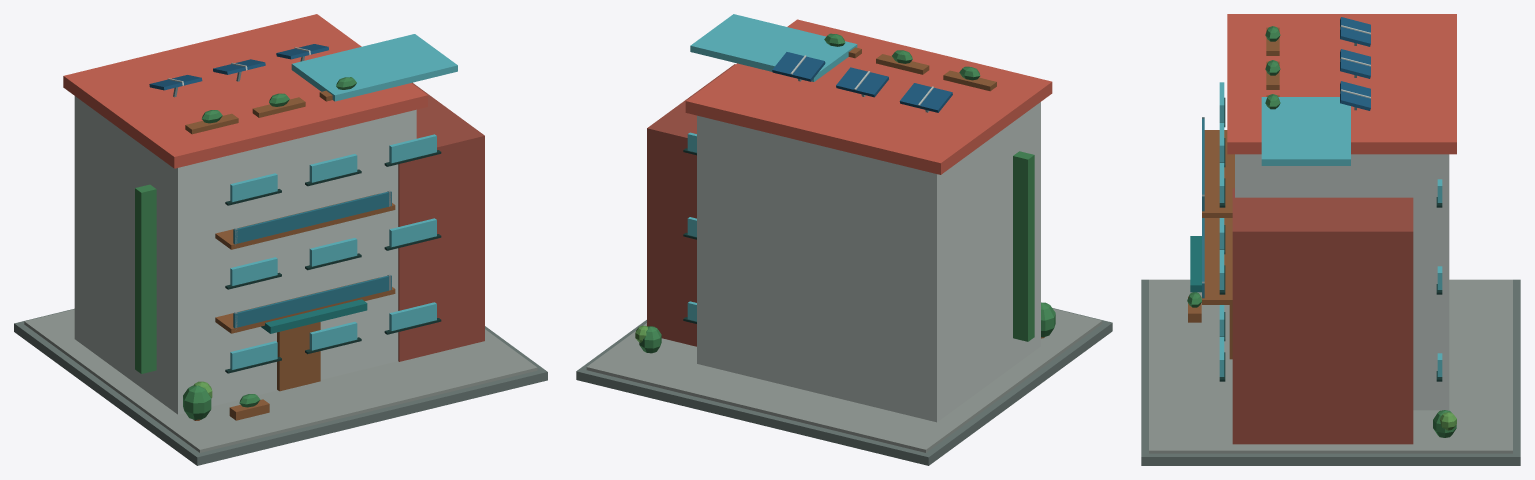
File: house_lv6.glb
The picture shows the model from 3 angles, left to right: view 1: azimuth 30°, elevation 25°; view 2: azimuth 150°, elevation 25°; view 3: azimuth 270°, elevation 25°; orthographic projection. The views are drawn at different scales.
Visible parts, largest first — view 1: rough, glossy, metallic; view 2: rough, glossy, metallic; view 3: rough, glossy, metallic.
Part boxes in pixels (left/top/right/bottom): rough: left=14, top=14, right=547, bottom=465; glossy: left=230, top=34, right=457, bottom=369; metallic: left=149, top=44, right=391, bottom=330; rough: left=576, top=19, right=1112, bottom=465; glossy: left=687, top=14, right=857, bottom=321; metallic: left=772, top=52, right=952, bottom=112; rough: left=1141, top=14, right=1520, bottom=465; glossy: left=1202, top=82, right=1442, bottom=376; metallic: left=1202, top=17, right=1370, bottom=283.
Bounding box in the file's own units: 9.4 × 7.53 × 8.5.
